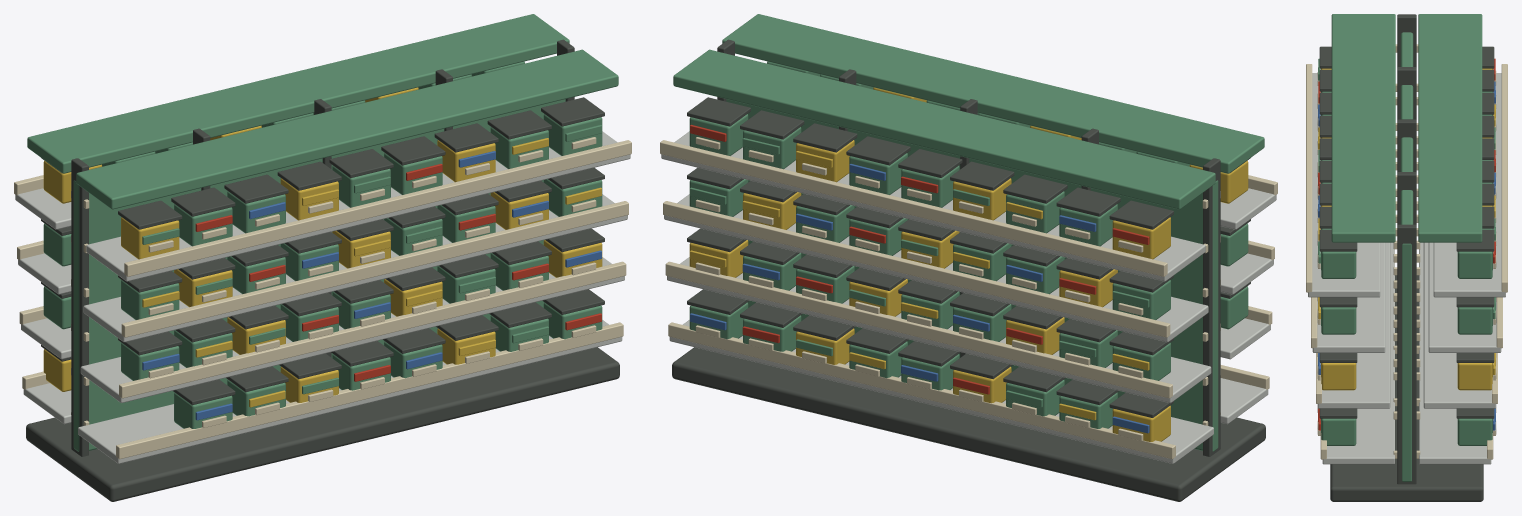
File: miller_gondola_fasteners.glb
The picture shows the model from 3 angles, left to right: view 1: azimuth 30°, elevation 25°; view 2: azimuth 150°, elevation 25°; view 3: azimuth 270°, elevation 25°; orthographic projection. The views are drawn at different scales.
Parts seen in each view (by area): view 1: miller_gondola_fasteners_miller_forest_enamel_pbr, miller_gondola_fasteners_miller_blackened_steel_pbr, miller_gondola_fasteners_miller_aged_cream_enamel_pbr, miller_gondola_fasteners_miller_galvanized_steel_pbr, miller_gondola_fasteners_miller_safety_yellow_enamel_pbr, miller_gondola_fasteners_miller_paint_blue_enamel_pbr, miller_gondola_fasteners_miller_safety_red_enamel_pbr; view 2: miller_gondola_fasteners_miller_forest_enamel_pbr, miller_gondola_fasteners_miller_blackened_steel_pbr, miller_gondola_fasteners_miller_aged_cream_enamel_pbr, miller_gondola_fasteners_miller_galvanized_steel_pbr, miller_gondola_fasteners_miller_safety_yellow_enamel_pbr, miller_gondola_fasteners_miller_paint_blue_enamel_pbr, miller_gondola_fasteners_miller_safety_red_enamel_pbr; view 3: miller_gondola_fasteners_miller_forest_enamel_pbr, miller_gondola_fasteners_miller_galvanized_steel_pbr, miller_gondola_fasteners_miller_blackened_steel_pbr, miller_gondola_fasteners_miller_aged_cream_enamel_pbr, miller_gondola_fasteners_miller_safety_yellow_enamel_pbr, miller_gondola_fasteners_miller_safety_red_enamel_pbr, miller_gondola_fasteners_miller_paint_blue_enamel_pbr.
Part boxes in pixels (<box>): miller_gondola_fasteners_miller_forest_enamel_pbr: <box>27,14,618,451</box>; miller_gondola_fasteners_miller_blackened_steel_pbr: <box>26,39,619,501</box>; miller_gondola_fasteners_miller_aged_cream_enamel_pbr: <box>14,137,631,459</box>; miller_gondola_fasteners_miller_galvanized_steel_pbr: <box>15,131,630,463</box>; miller_gondola_fasteners_miller_safety_yellow_enamel_pbr: <box>43,87,602,407</box>; miller_gondola_fasteners_miller_paint_blue_enamel_pbr: <box>142,151,601,420</box>; miller_gondola_fasteners_miller_safety_red_enamel_pbr: <box>195,164,601,381</box>; miller_gondola_fasteners_miller_forest_enamel_pbr: <box>673,14,1264,451</box>; miller_gondola_fasteners_miller_blackened_steel_pbr: <box>672,39,1265,501</box>; miller_gondola_fasteners_miller_aged_cream_enamel_pbr: <box>660,137,1277,459</box>; miller_gondola_fasteners_miller_galvanized_steel_pbr: <box>661,131,1276,463</box>; miller_gondola_fasteners_miller_safety_yellow_enamel_pbr: <box>689,87,1248,441</box>; miller_gondola_fasteners_miller_paint_blue_enamel_pbr: <box>690,164,1149,433</box>; miller_gondola_fasteners_miller_safety_red_enamel_pbr: <box>690,124,1149,394</box>; miller_gondola_fasteners_miller_forest_enamel_pbr: <box>1318,14,1495,481</box>; miller_gondola_fasteners_miller_galvanized_steel_pbr: <box>1308,73,1505,464</box>; miller_gondola_fasteners_miller_blackened_steel_pbr: <box>1319,14,1494,501</box>; miller_gondola_fasteners_miller_aged_cream_enamel_pbr: <box>1306,44,1507,459</box>; miller_gondola_fasteners_miller_safety_yellow_enamel_pbr: <box>1318,68,1495,390</box>; miller_gondola_fasteners_miller_safety_red_enamel_pbr: <box>1318,58,1495,430</box>; miller_gondola_fasteners_miller_paint_blue_enamel_pbr: <box>1318,81,1495,430</box>.
Bounding box in the file's own units: 3.74 × 2.15 × 1.45.
